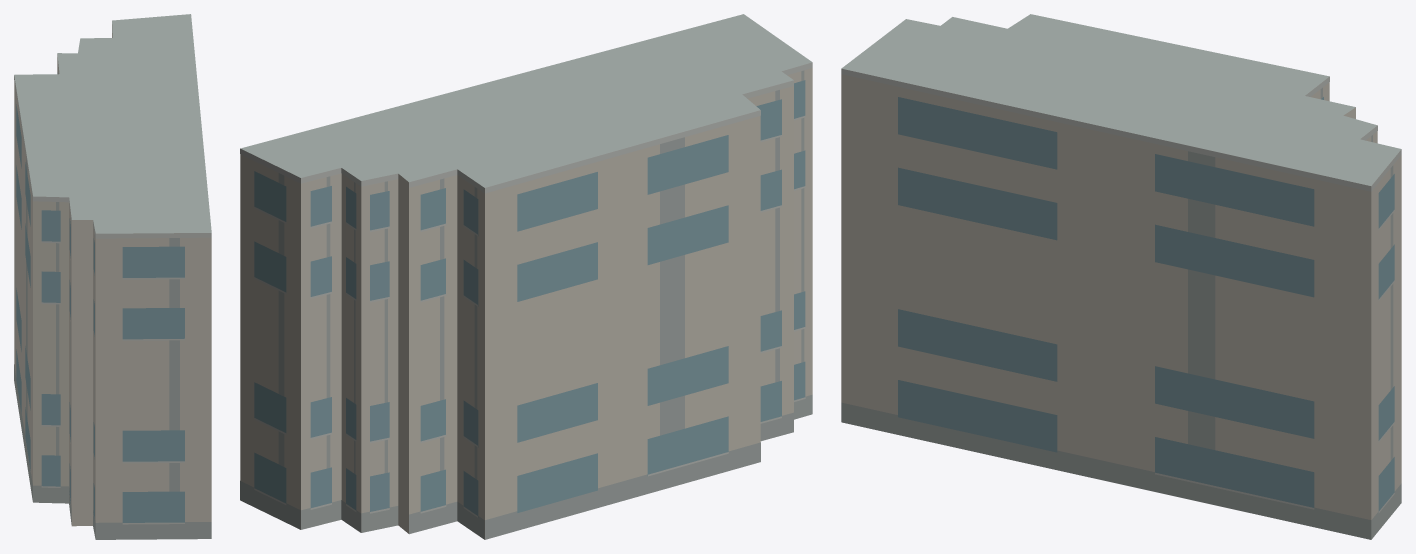
The model's file is survey-upis-32631829.glb.
3 views of the same model, side by side, from view 1: azimuth 30°, elevation 25°; view 2: azimuth 150°, elevation 25°; view 3: azimuth 270°, elevation 25° (orthographic). The views are drawn at different scales.
Parts seen in each view (by area): view 1: survey-upis-32631829.tmp; view 2: survey-upis-32631829.tmp; view 3: survey-upis-32631829.tmp.
Part boxes in pixels (x1,y1,x2,y2): survey-upis-32631829.tmp: [14, 14, 211, 539]; survey-upis-32631829.tmp: [240, 14, 812, 539]; survey-upis-32631829.tmp: [841, 14, 1401, 539].
Size of the model in its own units: 15.99 by 15.3 by 21.98.
